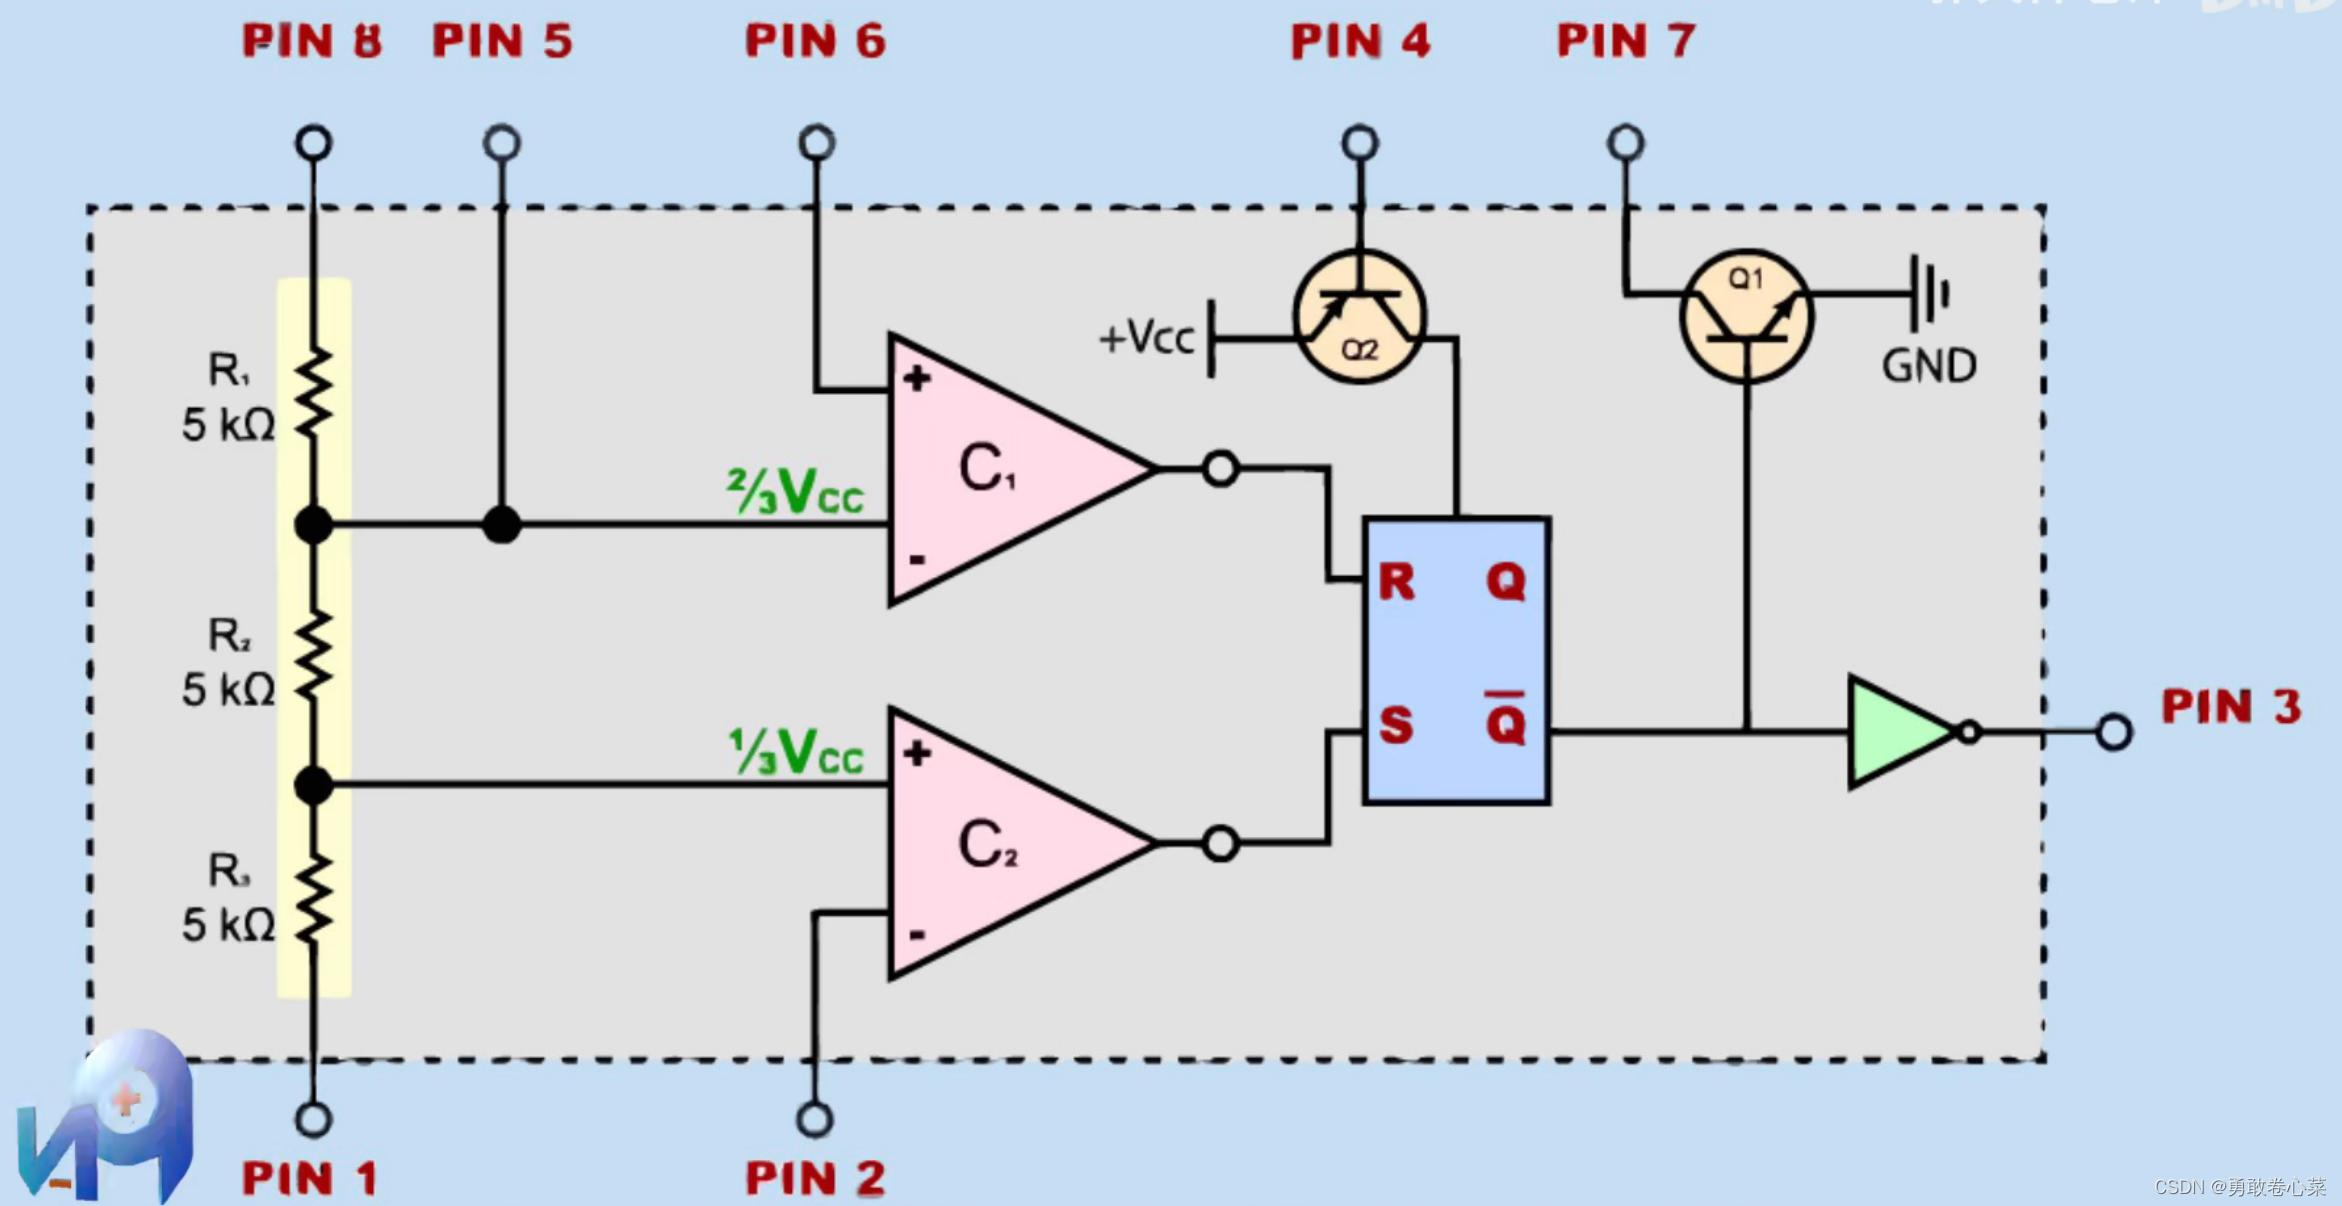bistable flip-flop: (1367, 512, 1550, 809)
comparator1: (887, 326, 1166, 611), (892, 711, 1159, 978)
discharge circuit: (1682, 246, 1815, 383)
output circuit: (1847, 672, 1987, 792)
reset circuit: (1293, 246, 1427, 386)
resistance: (291, 346, 354, 443), (291, 614, 340, 705), (297, 855, 340, 951)
